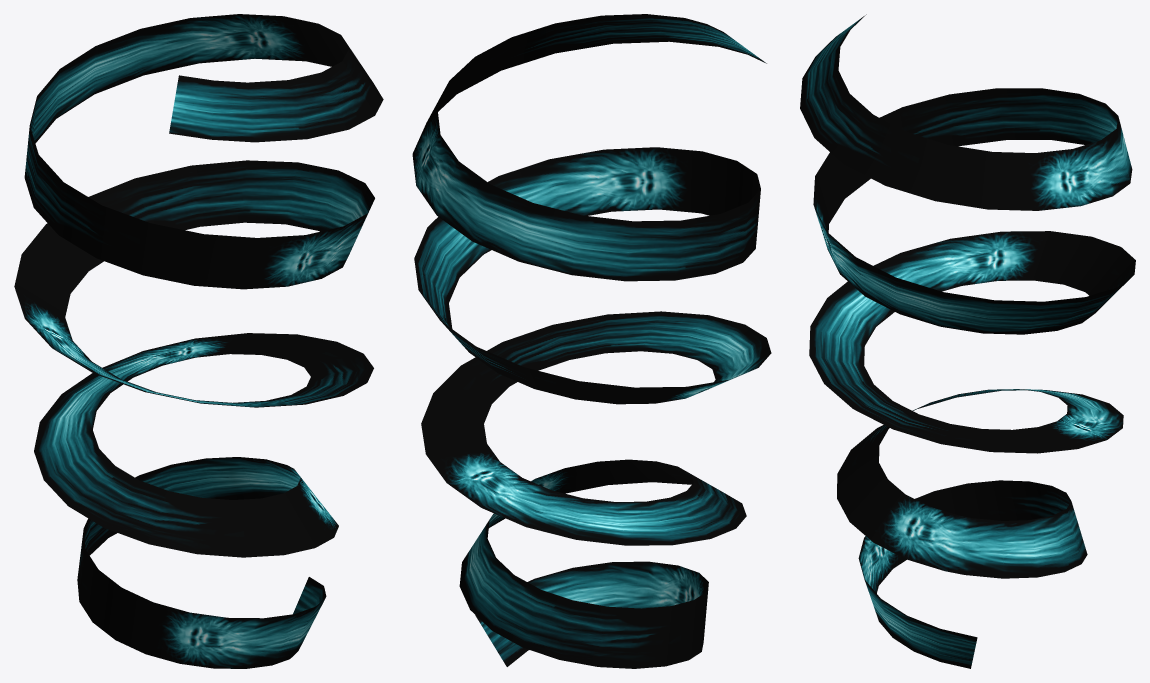
3 views of the same model, side by side, from view 1: azimuth 30°, elevation 25°; view 2: azimuth 150°, elevation 25°; view 3: azimuth 270°, elevation 25° (orthographic). The views are drawn at different scales.
Visible parts, largest first — view 1: 10107_fx01; view 2: 10107_fx01; view 3: 10107_fx01.
Boxes of the visible parts, <box> form: 10107_fx01: <box>14,14,383,668</box>; 10107_fx01: <box>412,14,771,668</box>; 10107_fx01: <box>800,14,1135,668</box>.
Bounding box in the file's own units: 870 × 1690 × 882.
